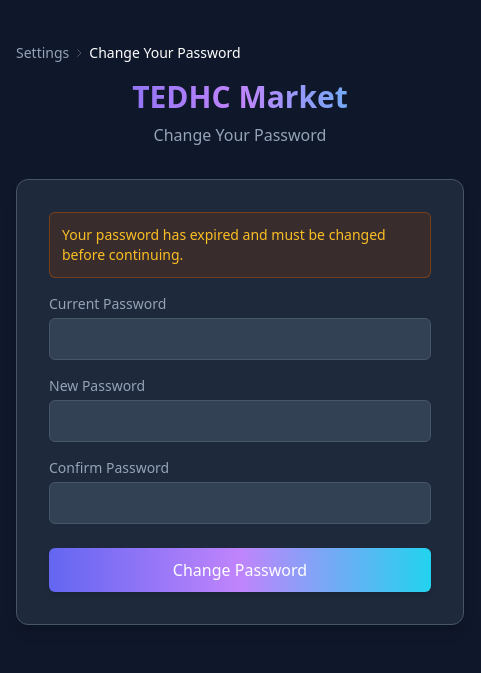
Scenario: ChangePassword › validates password match
The image size is (481, 673).
Type "oldpassword" into the password field with test id "current-password-input" at (240, 339), box [49,318,431,360]
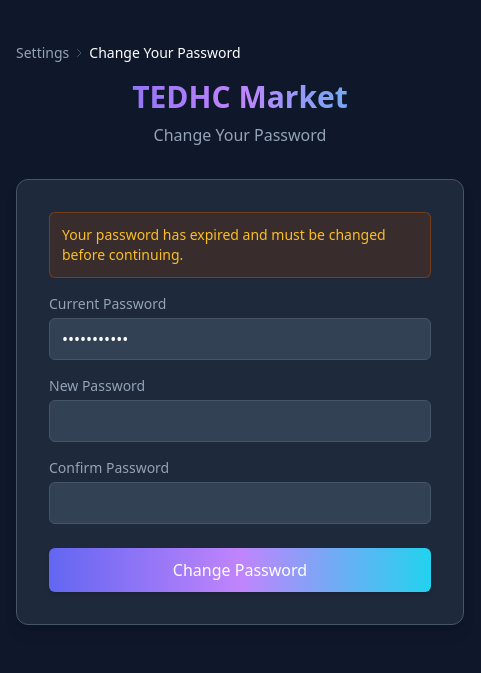
Type "newpassword1" into the password field with test id "new-password-input" at (240, 421), box [49,400,431,442]
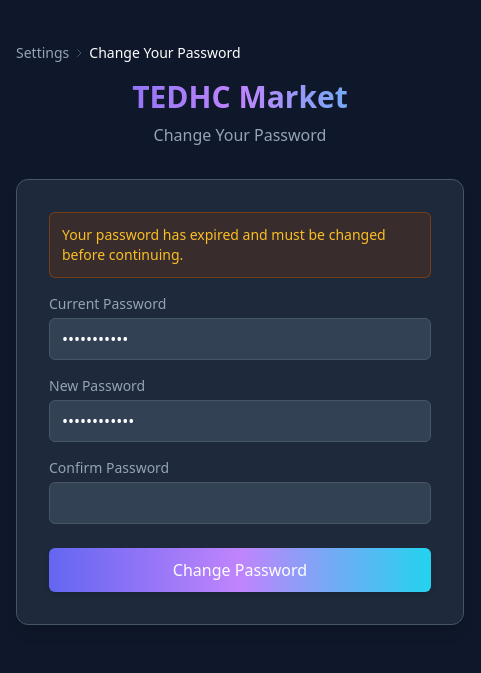
Type "differentpass" into the password field with test id "confirm-password-input" at (240, 503), box [49,482,431,524]
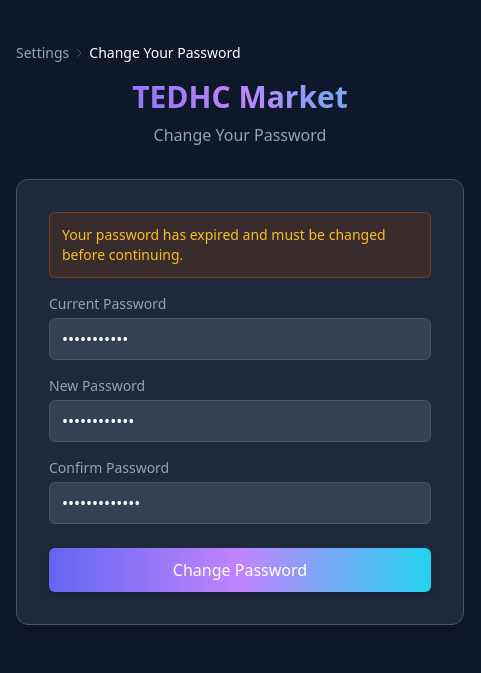
Click the button with test id "change-password-submit" at (240, 570), box [49,548,431,592]
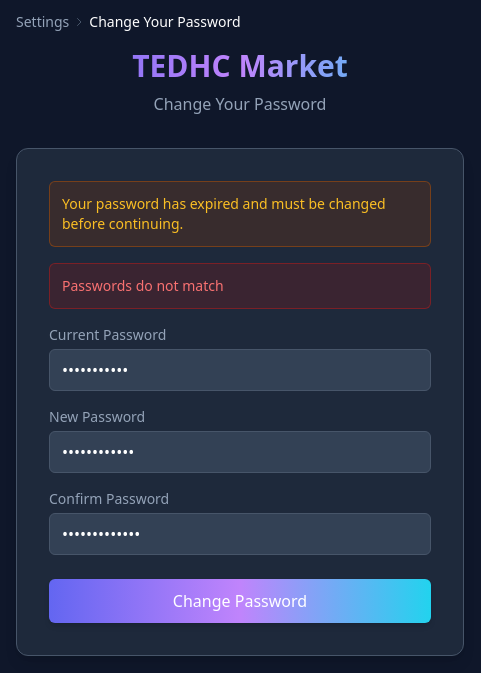
expect the text "Passwords do not match" is shown: met, box [49,263,431,309]
